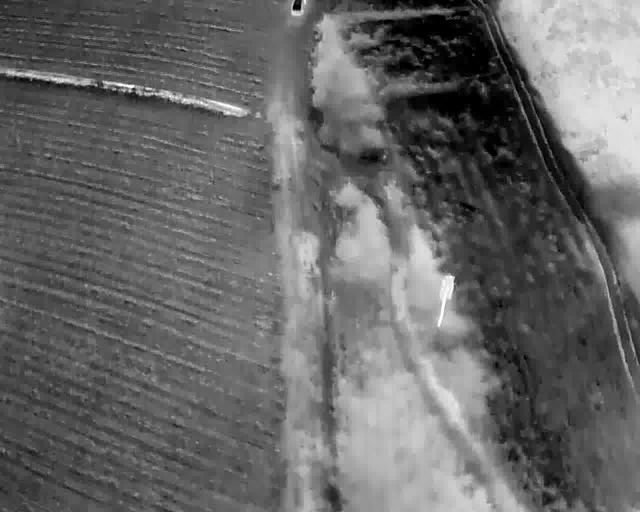car: (290, 0, 303, 16)
